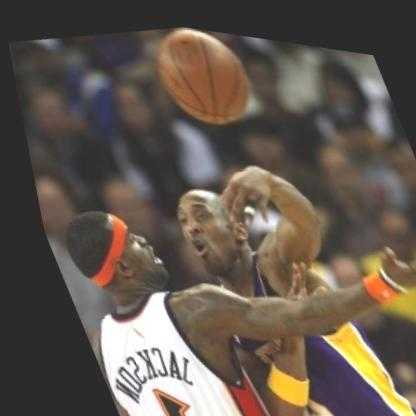basketball: (135, 16, 272, 140)
